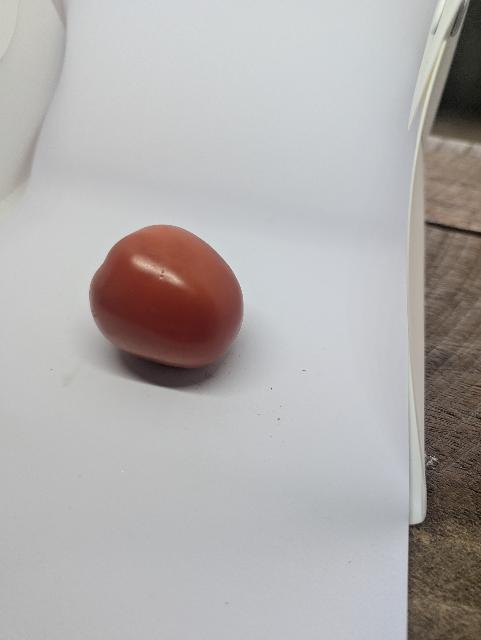red: (85, 216, 260, 391)
